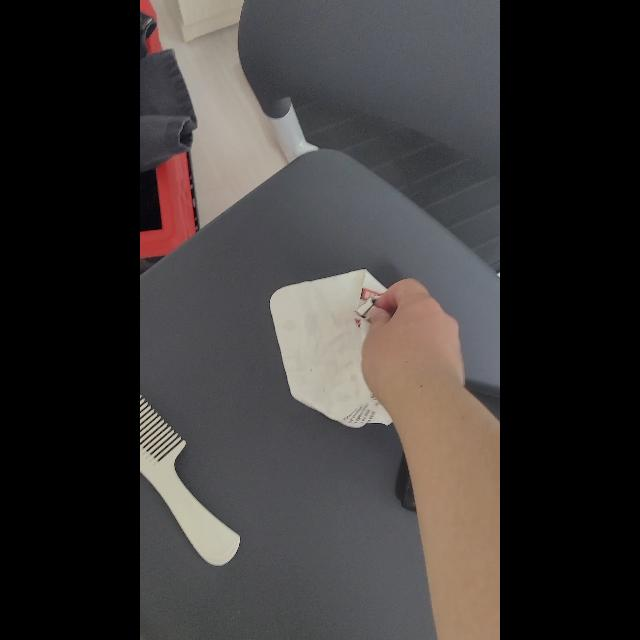COMB: (140, 394, 240, 566)
Glasses cleaning cloth: (269, 270, 393, 428)
WALLET: (400, 379, 500, 513)
